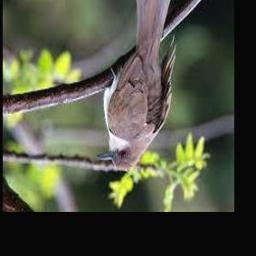Cuckoo: (97, 0, 177, 171)
